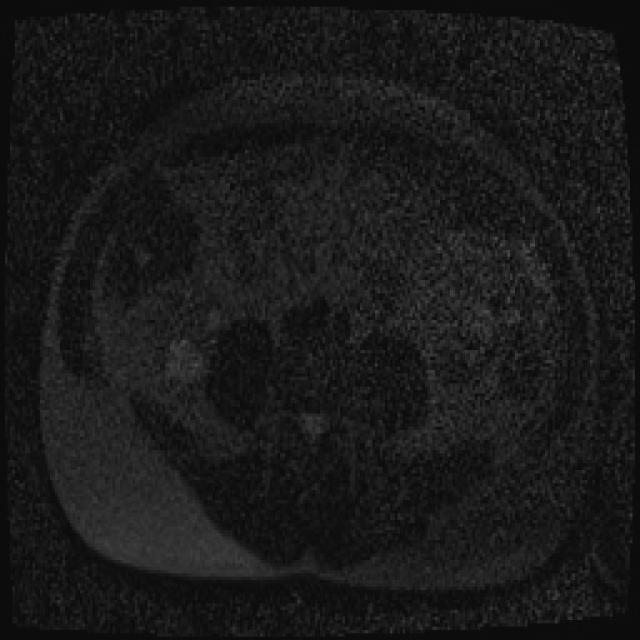sag: (150, 287, 230, 400)
